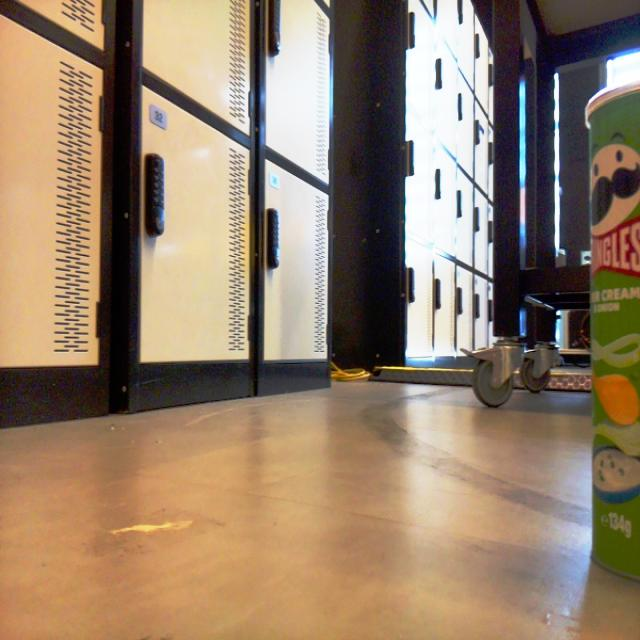greenpringles: (556, 71, 640, 594)
